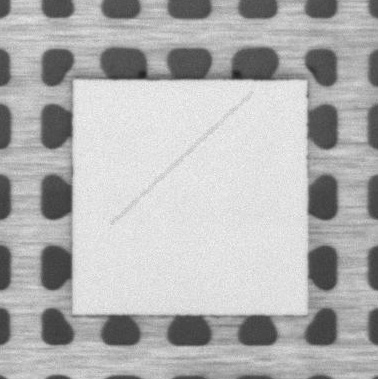DIE_CRACK: (111, 92, 252, 225)
